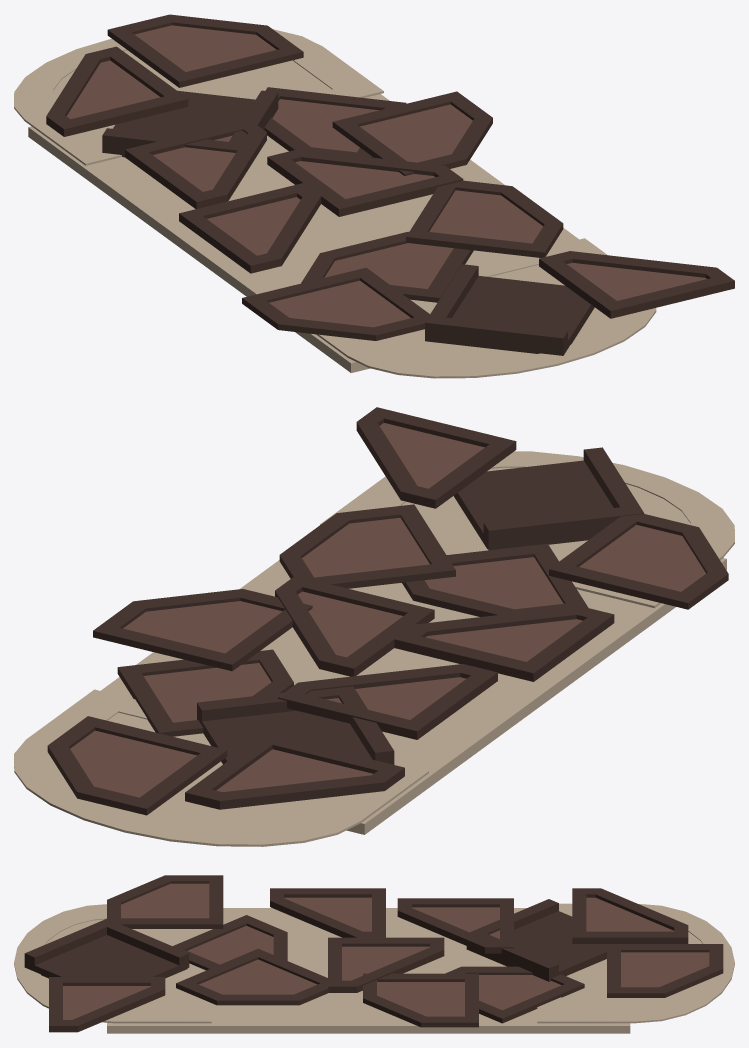
File: SimplePath.model.fbx
The picture shows the model from 3 angles, top to bottom: view 1: azimuth 30°, elevation 25°; view 2: azimuth 150°, elevation 25°; view 3: azimuth 270°, elevation 25°; orthographic projection. The views are drawn at different scales.
Visible parts, largest first — view 1: roof_flat_largeCenter_15, roof_flat_round_17, roof_flat_round_16, roof_flat_largeCorner_11, roof_flat_corner_small_5, roof_flat_corner_small_14, roof_flat_corner_small_8, roof_flat_corner_small_12, roof_flat_corner_large_13, roof_flat_corner_large_2, roof_flat_corner_large_4, roof_flat_corner_large_9 (+4 smaller); view 2: roof_flat_largeCenter_15, roof_flat_round_16, roof_flat_largeCorner_11, roof_flat_corner_small_5, roof_flat_corner_small_14, roof_flat_corner_small_12, roof_flat_corner_small_8, roof_flat_corner_large_4, roof_flat_round_17, roof_flat_corner_large_9, roof_flat_corner_large_13, roof_flat_corner_large_3 (+4 smaller); view 3: roof_flat_largeCenter_15, roof_flat_round_16, roof_flat_largeCorner_11, roof_flat_round_17, roof_flat_corner_small_8, roof_flat_corner_small_5, roof_flat_largeCorner_10, roof_flat_corner_small_14, roof_flat_corner_small_12, roof_flat_corner_large_4, roof_flat_corner_large_13, roof_flat_corner_large_2 (+4 smaller).
Boxes of the visible parts, x1,y1,x2,y2 form: roof_flat_largeCenter_15: (28, 94, 578, 372); roof_flat_round_17: (316, 238, 656, 378); roof_flat_round_16: (14, 29, 383, 165); roof_flat_largeCorner_11: (425, 264, 594, 355); roof_flat_corner_small_5: (107, 14, 303, 87); roof_flat_corner_small_14: (242, 267, 429, 340); roof_flat_corner_small_8: (406, 180, 563, 257); roof_flat_corner_small_12: (332, 91, 492, 175); roof_flat_corner_large_13: (539, 251, 734, 318); roof_flat_corner_large_2: (267, 149, 463, 216); roof_flat_corner_large_4: (46, 46, 188, 136); roof_flat_corner_large_9: (179, 183, 321, 273); roof_flat_largeCenter_15: (101, 558, 726, 834); roof_flat_round_16: (14, 689, 428, 846); roof_flat_largeCorner_11: (454, 447, 644, 550); roof_flat_corner_small_5: (47, 716, 227, 815); roof_flat_corner_small_14: (549, 514, 728, 609); roof_flat_corner_small_12: (93, 589, 312, 671); roof_flat_corner_small_8: (279, 504, 455, 588); roof_flat_corner_large_4: (185, 733, 404, 809); roof_flat_round_17: (320, 451, 734, 608); roof_flat_corner_large_9: (394, 606, 614, 681); roof_flat_corner_large_13: (356, 407, 516, 508); roof_flat_corner_large_3: (278, 664, 497, 739); roof_flat_largeCenter_15: (107, 908, 630, 1033); roof_flat_round_16: (537, 903, 734, 1023); roof_flat_largeCorner_11: (24, 918, 189, 978); roof_flat_round_17: (14, 904, 211, 1023); roof_flat_corner_small_8: (176, 948, 328, 1005); roof_flat_corner_small_5: (607, 944, 723, 997); roof_flat_largeCorner_10: (466, 899, 606, 981); roof_flat_corner_small_14: (107, 875, 223, 928); roof_flat_corner_small_12: (363, 973, 478, 1027); roof_flat_corner_large_4: (572, 888, 688, 943); roof_flat_corner_large_13: (49, 977, 165, 1032); roof_flat_corner_large_2: (328, 937, 444, 992).
Size of the model in its own units: 31 by 2.6 by 62.
